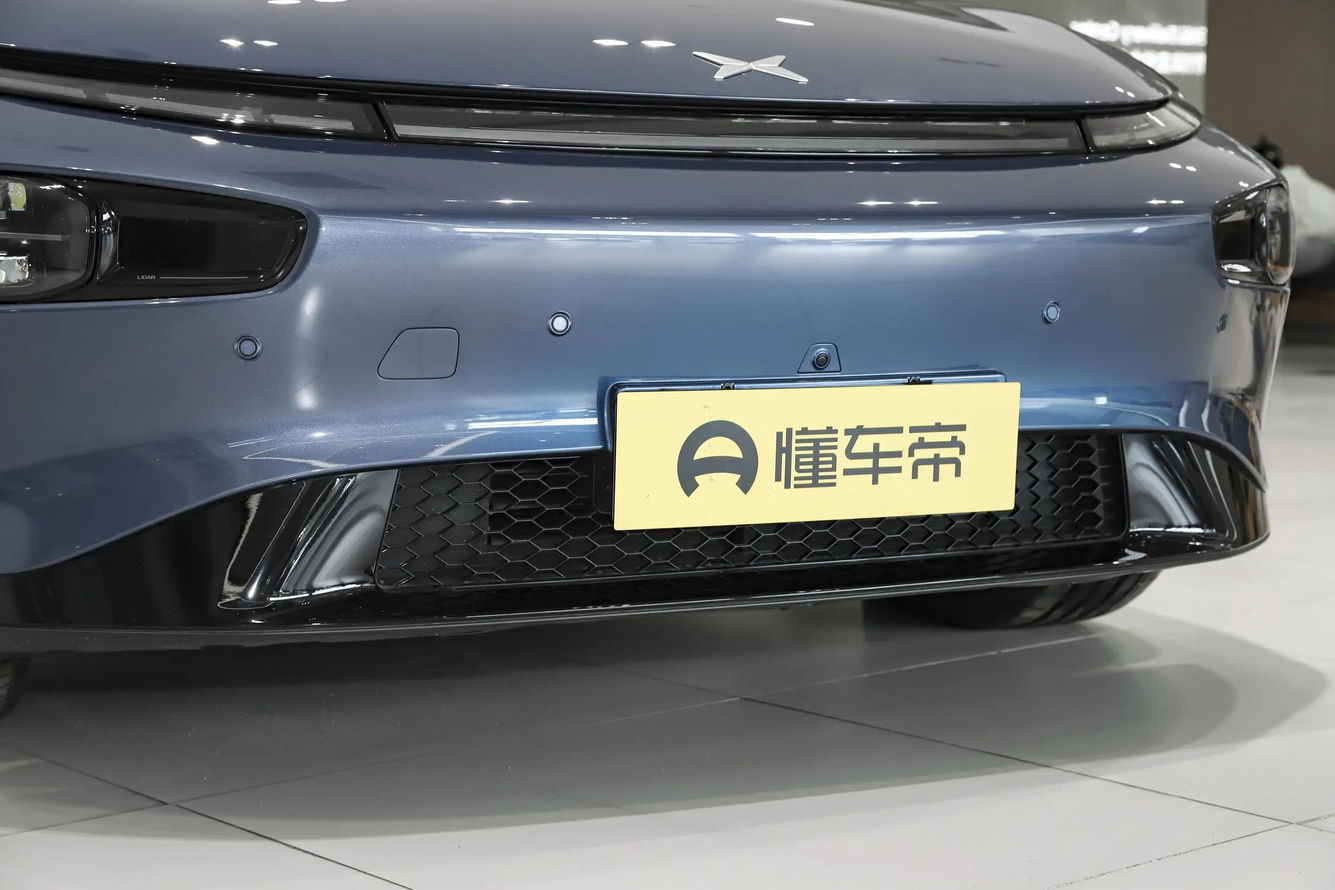XPeng Motors: (691, 51, 808, 81)
